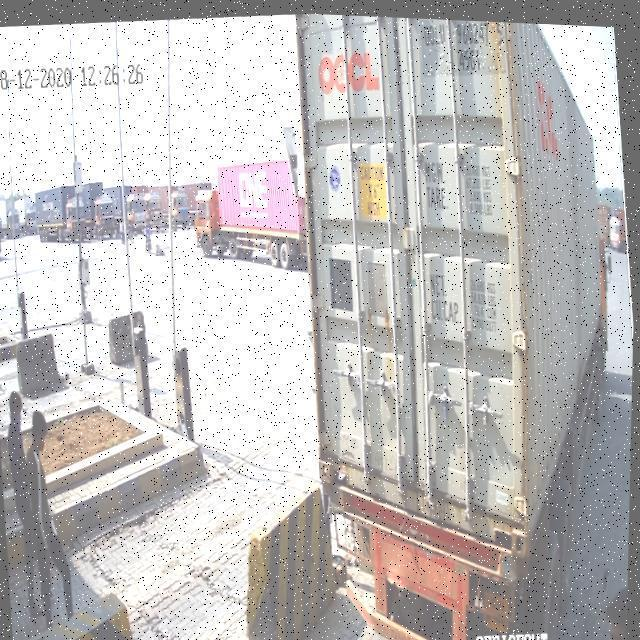container_number_h: (418, 15, 507, 76)
